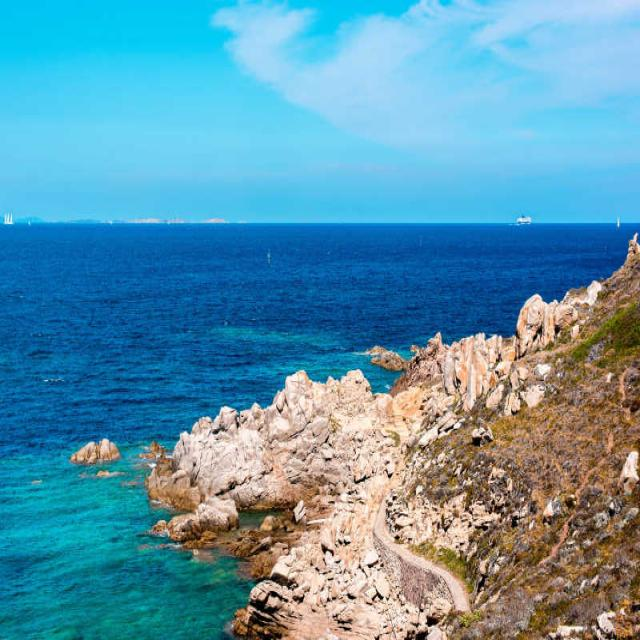reef: (74, 398, 409, 634)
